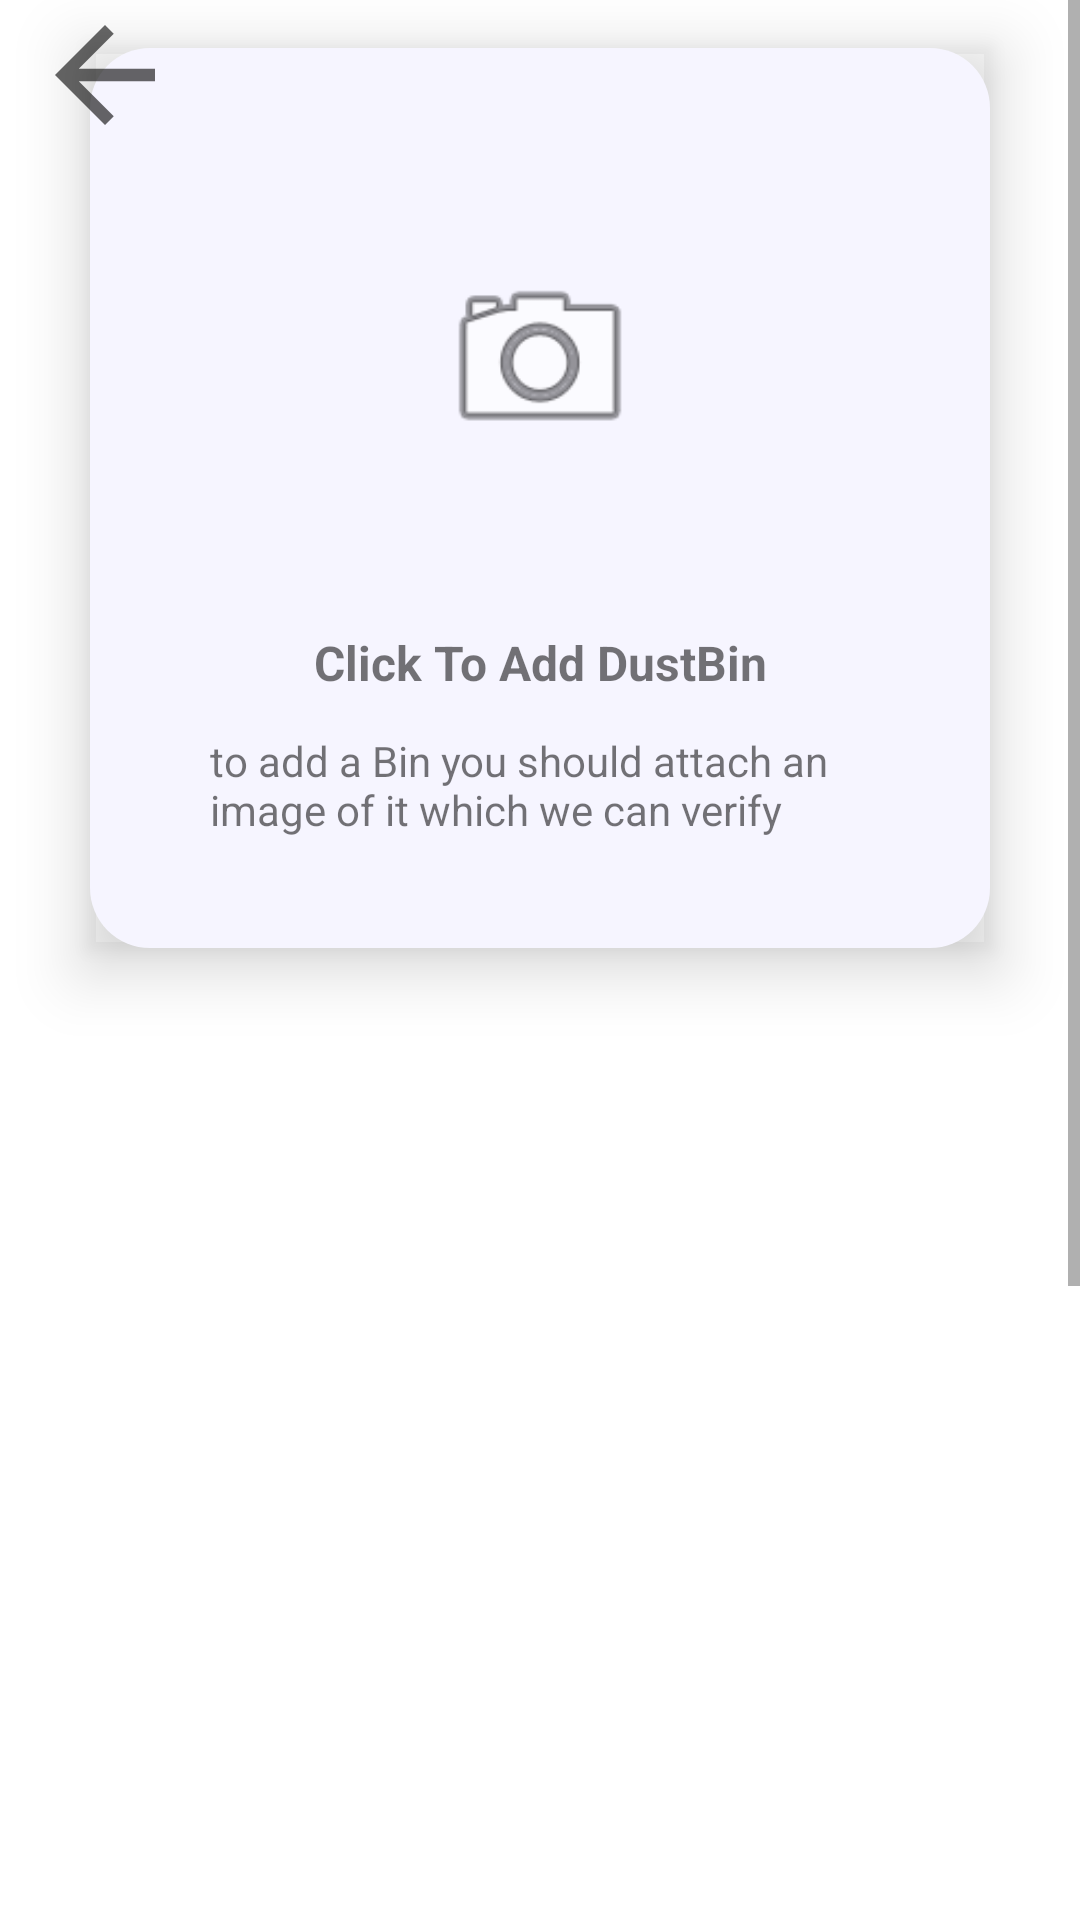

Named icons in this screenshot (1080×1920) and their centers, (x,y):
camera: (540,356)
